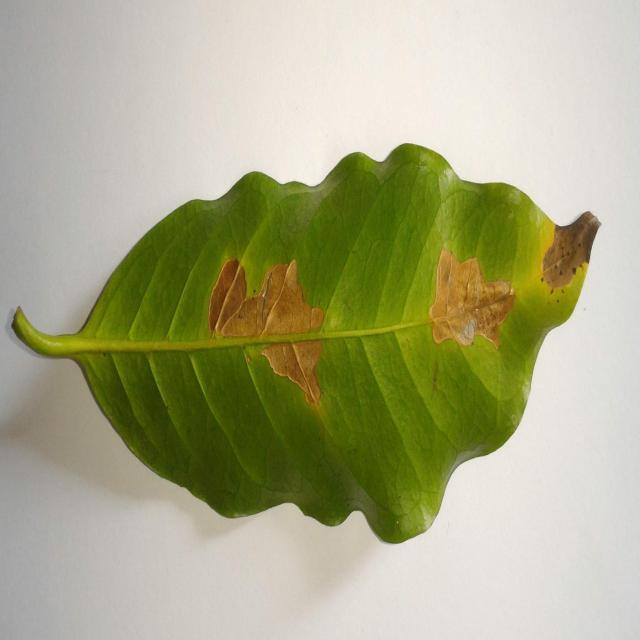Plaga-Minador: (15, 143, 601, 548)
